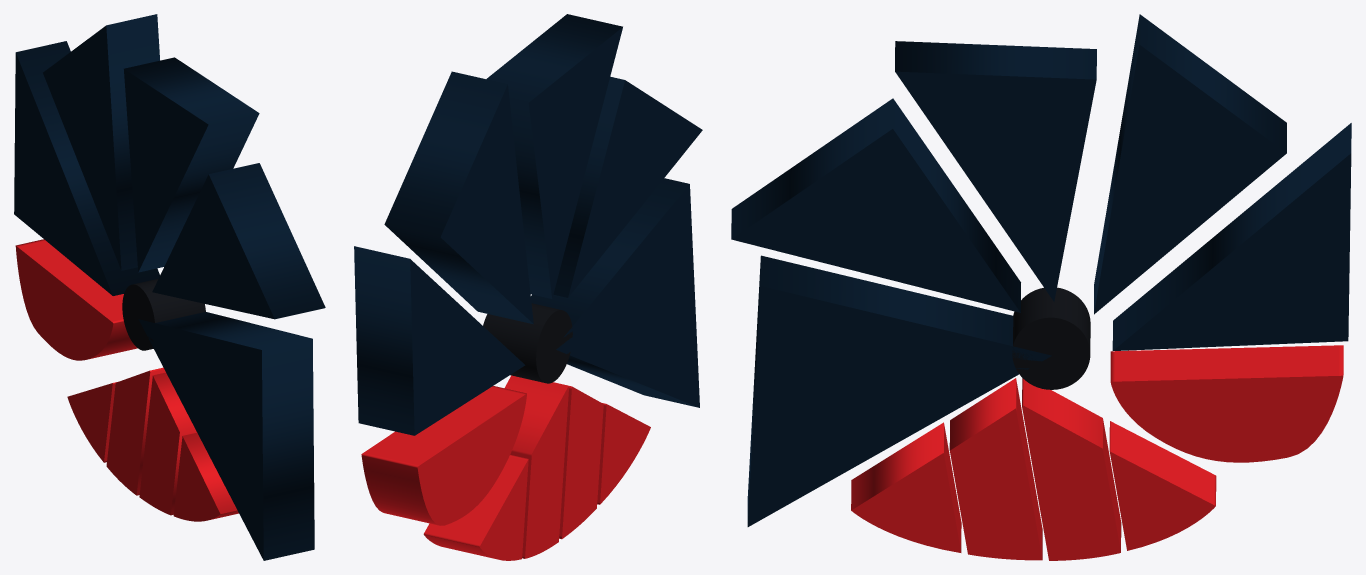
3 renders of one model, left to right at view 1: azimuth 30°, elevation 25°; view 2: azimuth 150°, elevation 25°; view 3: azimuth 270°, elevation 25°, orthographic. The views are drawn at different scales.
Visible parts, largest first — view 1: path6256, path6240, path6246, path6244, path6242, path6258, path6252, path6254, path6250, ellipse6260, path6248; view 2: path6242, path6256, path6244, path6240, path6258, path6246, path6254, path6248, path6252, ellipse6260, path6250; view 3: path6256, path6246, path6244, path6240, path6242, path6258, path6254, path6252, path6250, path6248, ellipse6260.
Part boxes in pixels (bbox=[...]): path6256: bbox=[138, 312, 314, 560]; path6240: bbox=[124, 57, 259, 272]; path6246: bbox=[152, 163, 325, 319]; path6244: bbox=[14, 41, 159, 295]; path6242: bbox=[43, 14, 159, 270]; path6258: bbox=[15, 239, 137, 360]; path6252: bbox=[139, 372, 196, 515]; path6254: bbox=[106, 367, 165, 495]; path6250: bbox=[173, 432, 238, 521]; ellipse6260: bbox=[122, 278, 205, 350]; path6248: bbox=[67, 382, 116, 462]; path6242: bbox=[384, 71, 533, 324]; path6256: bbox=[531, 178, 699, 407]; path6244: bbox=[354, 246, 525, 435]; path6240: bbox=[486, 14, 622, 298]; path6258: bbox=[361, 386, 526, 525]; path6246: bbox=[553, 76, 702, 297]; path6254: bbox=[504, 375, 568, 558]; path6248: bbox=[423, 454, 528, 560]; path6252: bbox=[552, 382, 603, 539]; ellipse6260: bbox=[483, 303, 572, 383]; path6250: bbox=[597, 403, 650, 504]; path6256: bbox=[747, 255, 1051, 526]; path6246: bbox=[731, 98, 1020, 312]; path6244: bbox=[1112, 123, 1351, 350]; path6240: bbox=[895, 41, 1096, 301]; path6242: bbox=[1094, 14, 1286, 314]; path6258: bbox=[1110, 345, 1343, 462]; path6254: bbox=[1022, 378, 1121, 560]; path6252: bbox=[949, 378, 1042, 560]; path6250: bbox=[851, 422, 961, 552]; path6248: bbox=[1109, 421, 1216, 550]; ellipse6260: bbox=[1012, 287, 1090, 389].
Bounding box in the file's own units: 0.0272 × 0.1942 × 0.209.
